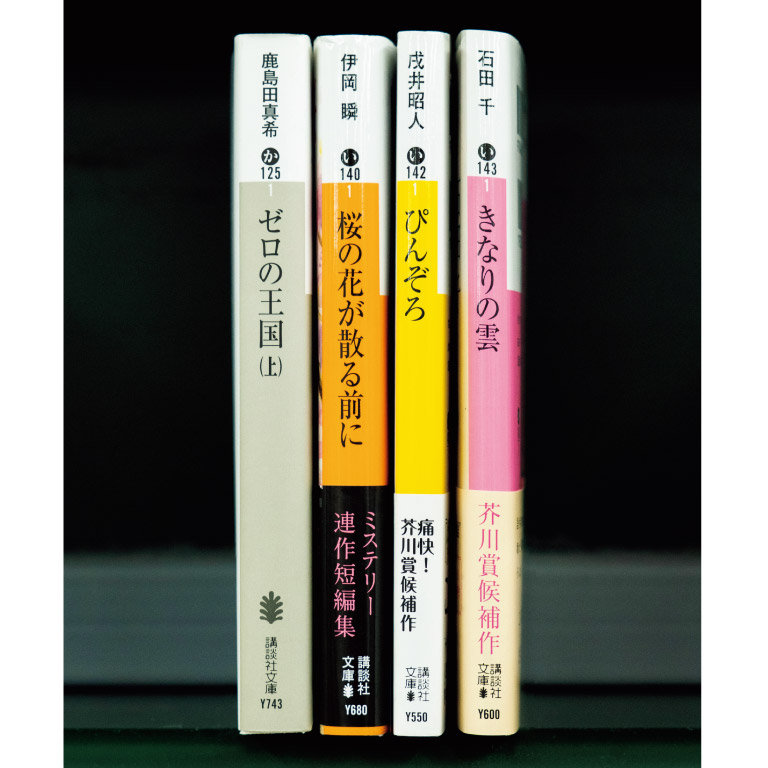book: (227, 27, 318, 738), (307, 27, 396, 736), (448, 27, 526, 738), (391, 21, 453, 739)
